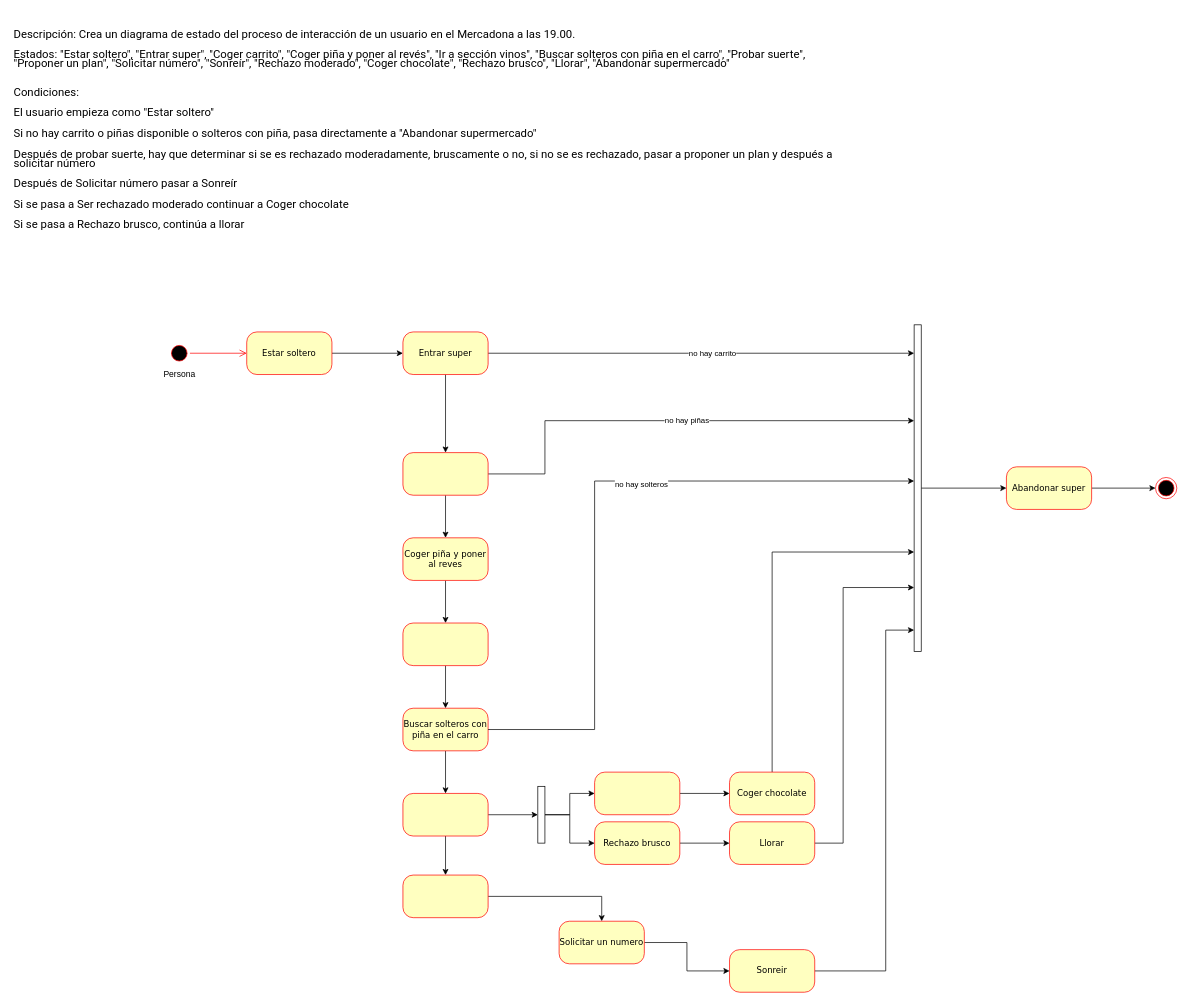
This 1189x1005 diagram has some shape labels left out. Each missing label, with the centre of its shape:
Coger carrito: the point at 445,473
Ir a seccion vinos: the point at 445,644
Probar suerte: the point at 445,814
Proponer un plan: the point at 445,896
Rechazo moderado: the point at 637,793
